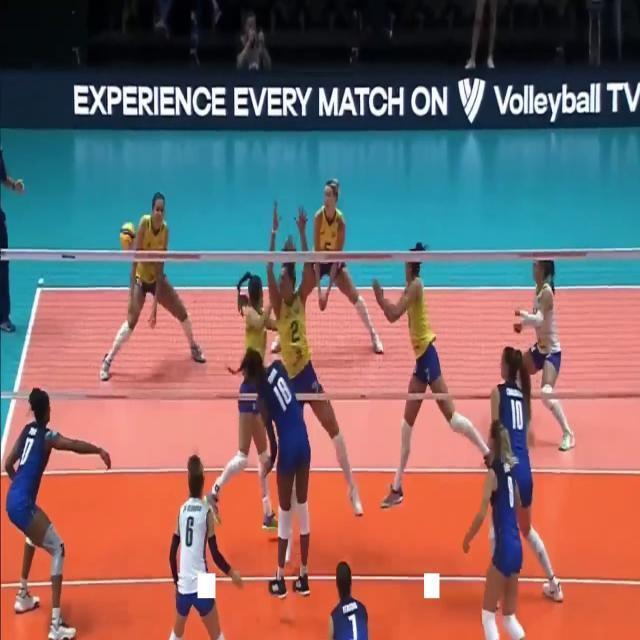volleyball: (120, 222, 136, 250)
